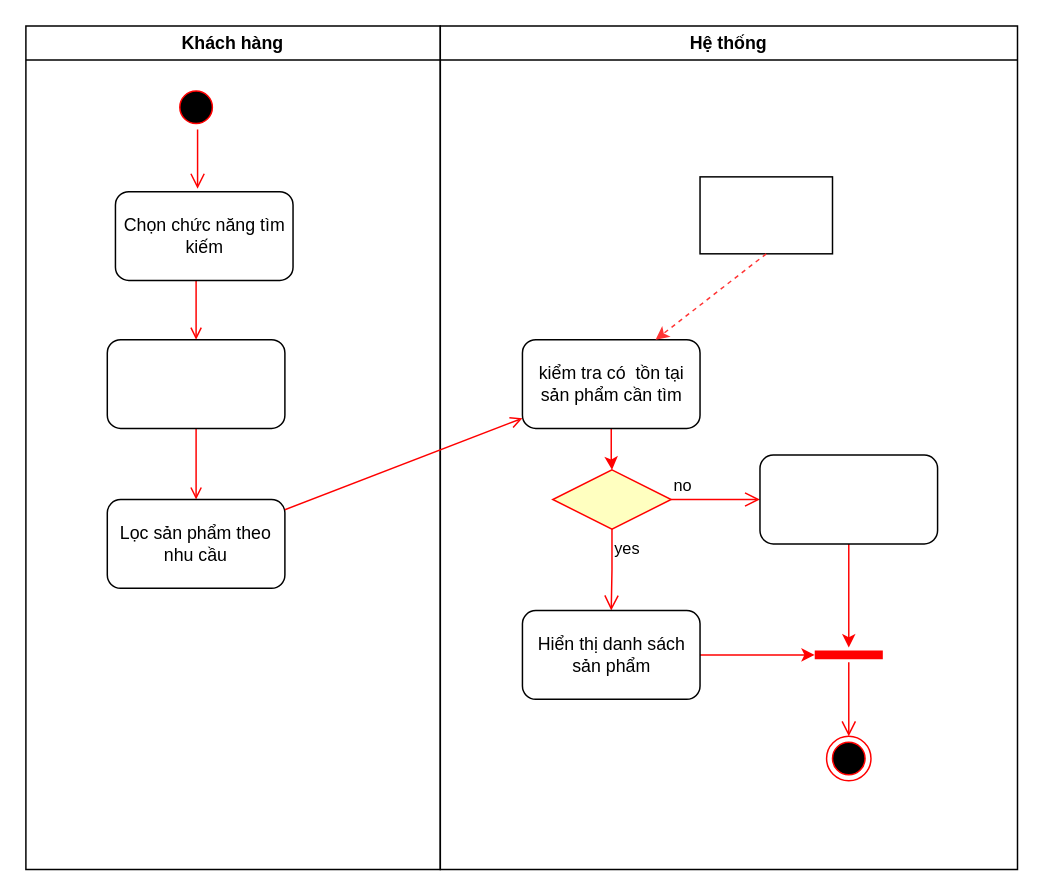
Image size: 1043x895. Some labels were removed from this diagram. Here are the shapes that lost their labels. From the top down, the box of each, then its label:
(699, 175, 832, 254): Sản phẩm
(106, 338, 285, 428): Nhập thông tin cần tra cứu
(758, 454, 938, 544): Thông báo sản phẩm không tồn tại
